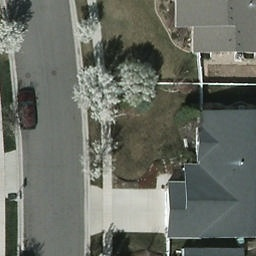car: (17, 90, 39, 130)
